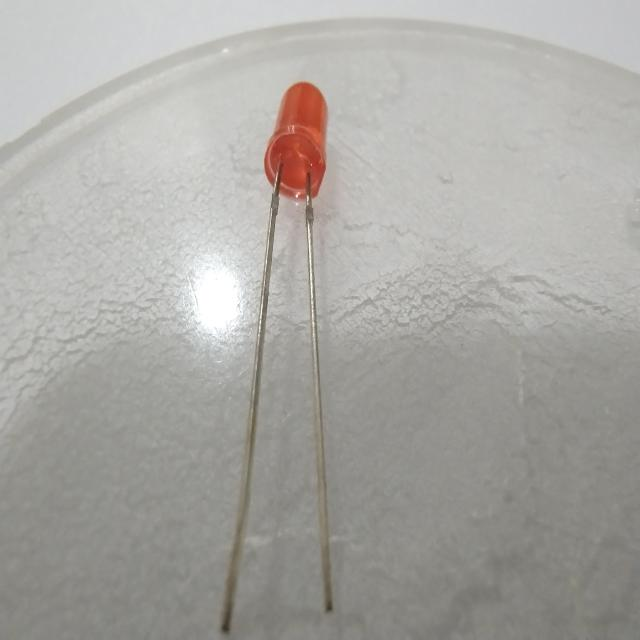red_led: (258, 79, 338, 215)
